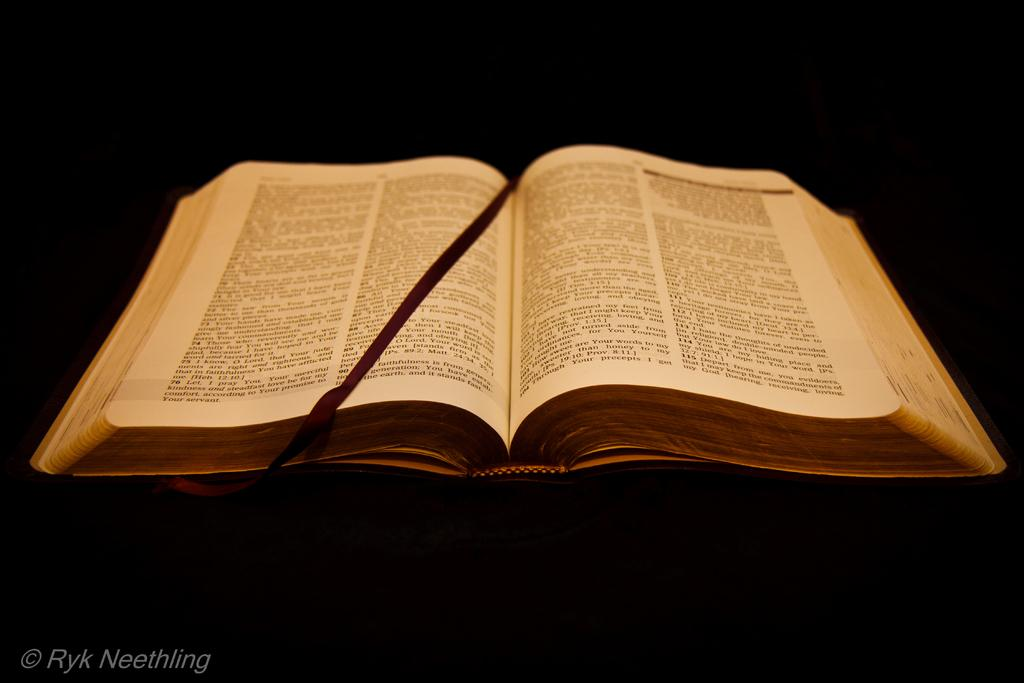book: (28, 147, 1010, 488)
